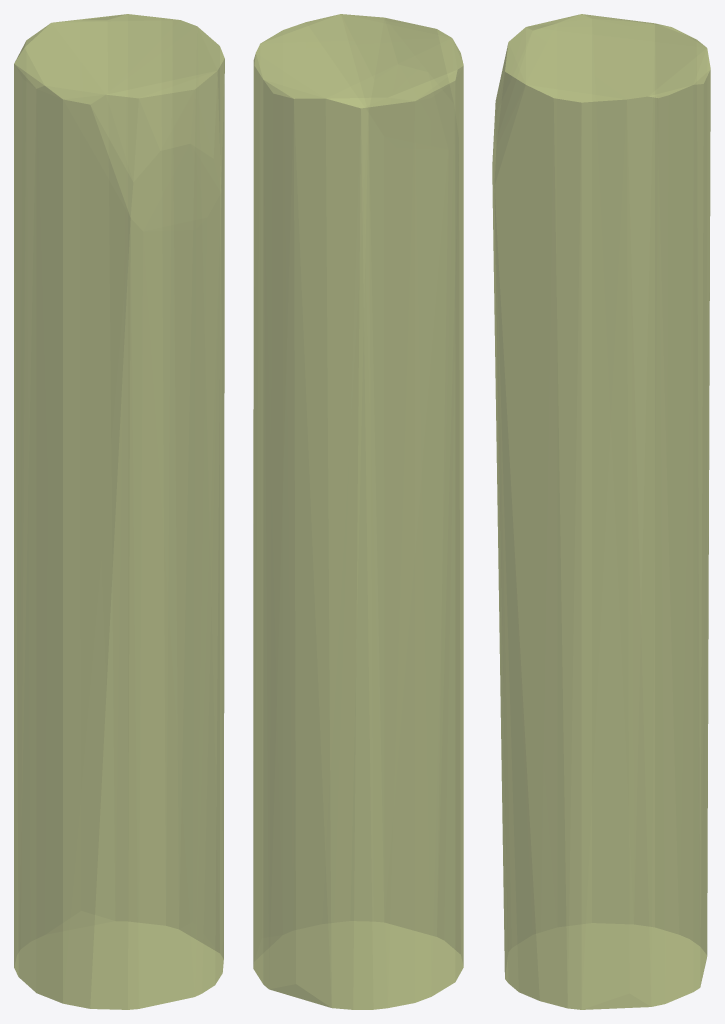
3 views of the same model, side by side, from view 1: azimuth 30°, elevation 25°; view 2: azimuth 150°, elevation 25°; view 3: azimuth 270°, elevation 25° (orthographic).
Parts seen in each view (by area): view 1: Shape_IndexedFaceSet.002_Shape_IndexedFaceSet.2377; view 2: Shape_IndexedFaceSet.002_Shape_IndexedFaceSet.2377; view 3: Shape_IndexedFaceSet.002_Shape_IndexedFaceSet.2377.
Boxes of the visible parts, x1,y1,x2,y2 form: Shape_IndexedFaceSet.002_Shape_IndexedFaceSet.2377: (14, 14, 224, 1009); Shape_IndexedFaceSet.002_Shape_IndexedFaceSet.2377: (253, 14, 463, 1009); Shape_IndexedFaceSet.002_Shape_IndexedFaceSet.2377: (492, 14, 710, 1009).
Size of the model in its own units: 0.2713 by 1.33 by 0.288.
